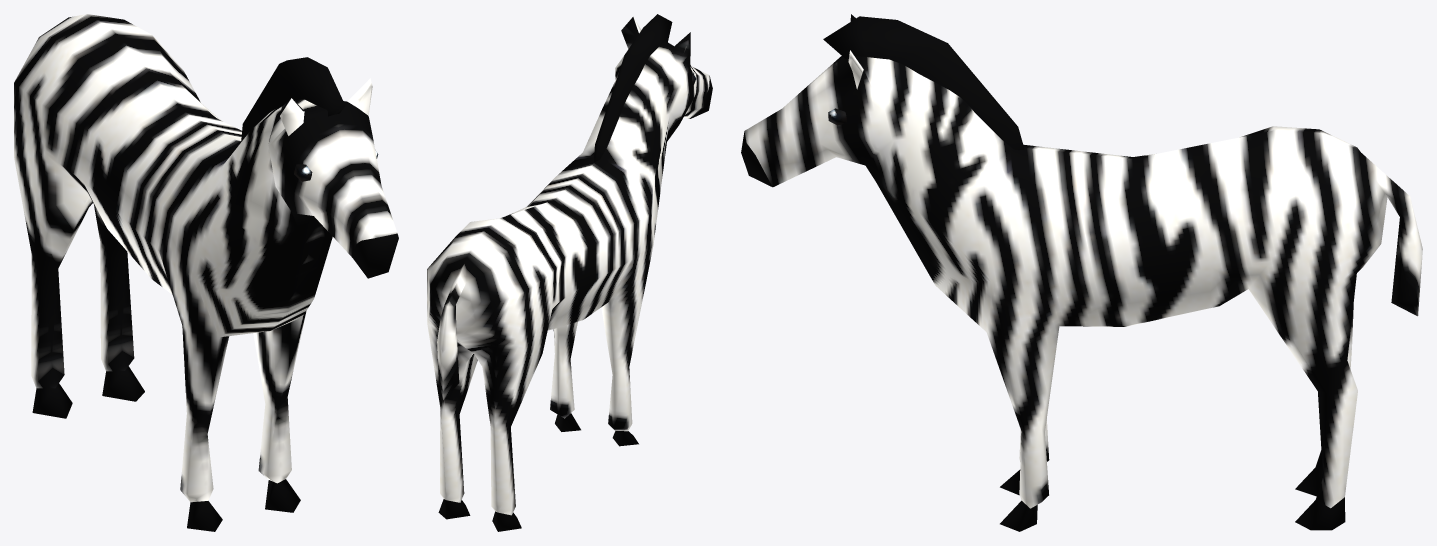
The model's file is eeb8341c-baaa-4de1-83c2-88ab46106a8a.glb.
3 renders of one model, left to right at view 1: azimuth 30°, elevation 25°; view 2: azimuth 150°, elevation 25°; view 3: azimuth 270°, elevation 25°, orthographic. The views are drawn at different scales.
Parts seen in each view (by area): view 1: Zebra; view 2: Zebra; view 3: Zebra.
Part boxes in pixels (x1=…): Zebra: x1=14, y1=14, x2=398, y2=531; Zebra: x1=427, y1=14, x2=712, y2=531; Zebra: x1=741, y1=14, x2=1422, y2=531.
Size of what is drawn, in the model's own units: 0.6086 by 2.09 by 2.64.
Materials: 2 (2 with a texture image).
